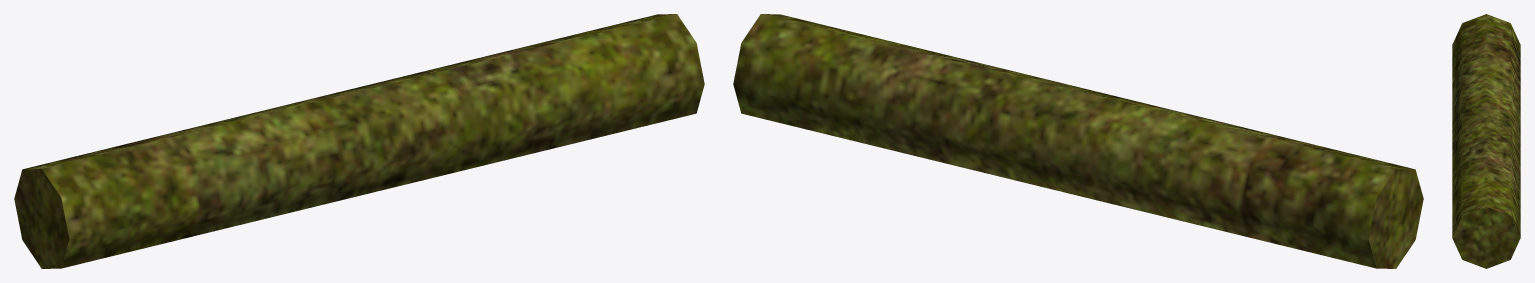
The model's file is SM_Trunk2.fbx.
3 renders of one model, left to right at view 1: azimuth 30°, elevation 25°; view 2: azimuth 150°, elevation 25°; view 3: azimuth 270°, elevation 25°, orthographic. The views are drawn at different scales.
Visible parts, largest first — view 1: SM_Trunk2; view 2: SM_Trunk2; view 3: SM_Trunk2.
Boxes of the visible parts, x1=… form: SM_Trunk2: x1=14, y1=14, x2=704, y2=268; SM_Trunk2: x1=733, y1=14, x2=1423, y2=268; SM_Trunk2: x1=1452, y1=14, x2=1520, y2=268.
Size of the model in its own units: 493 by 74.09 by 74.09.
